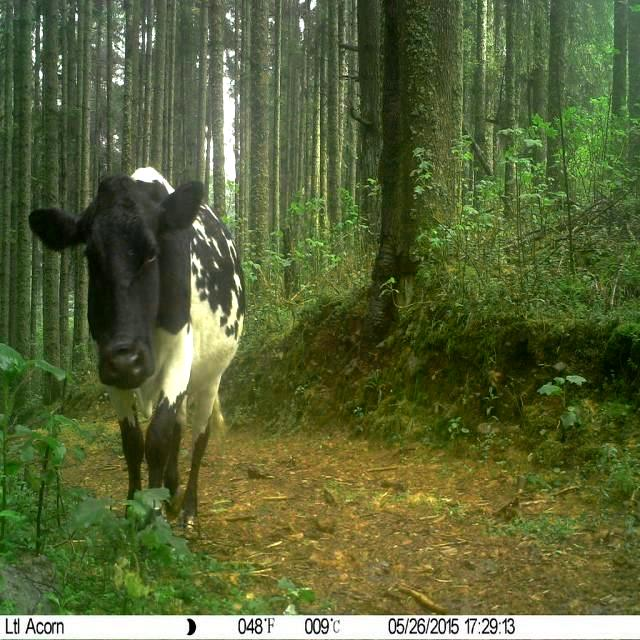COW: (30, 168, 245, 524)
